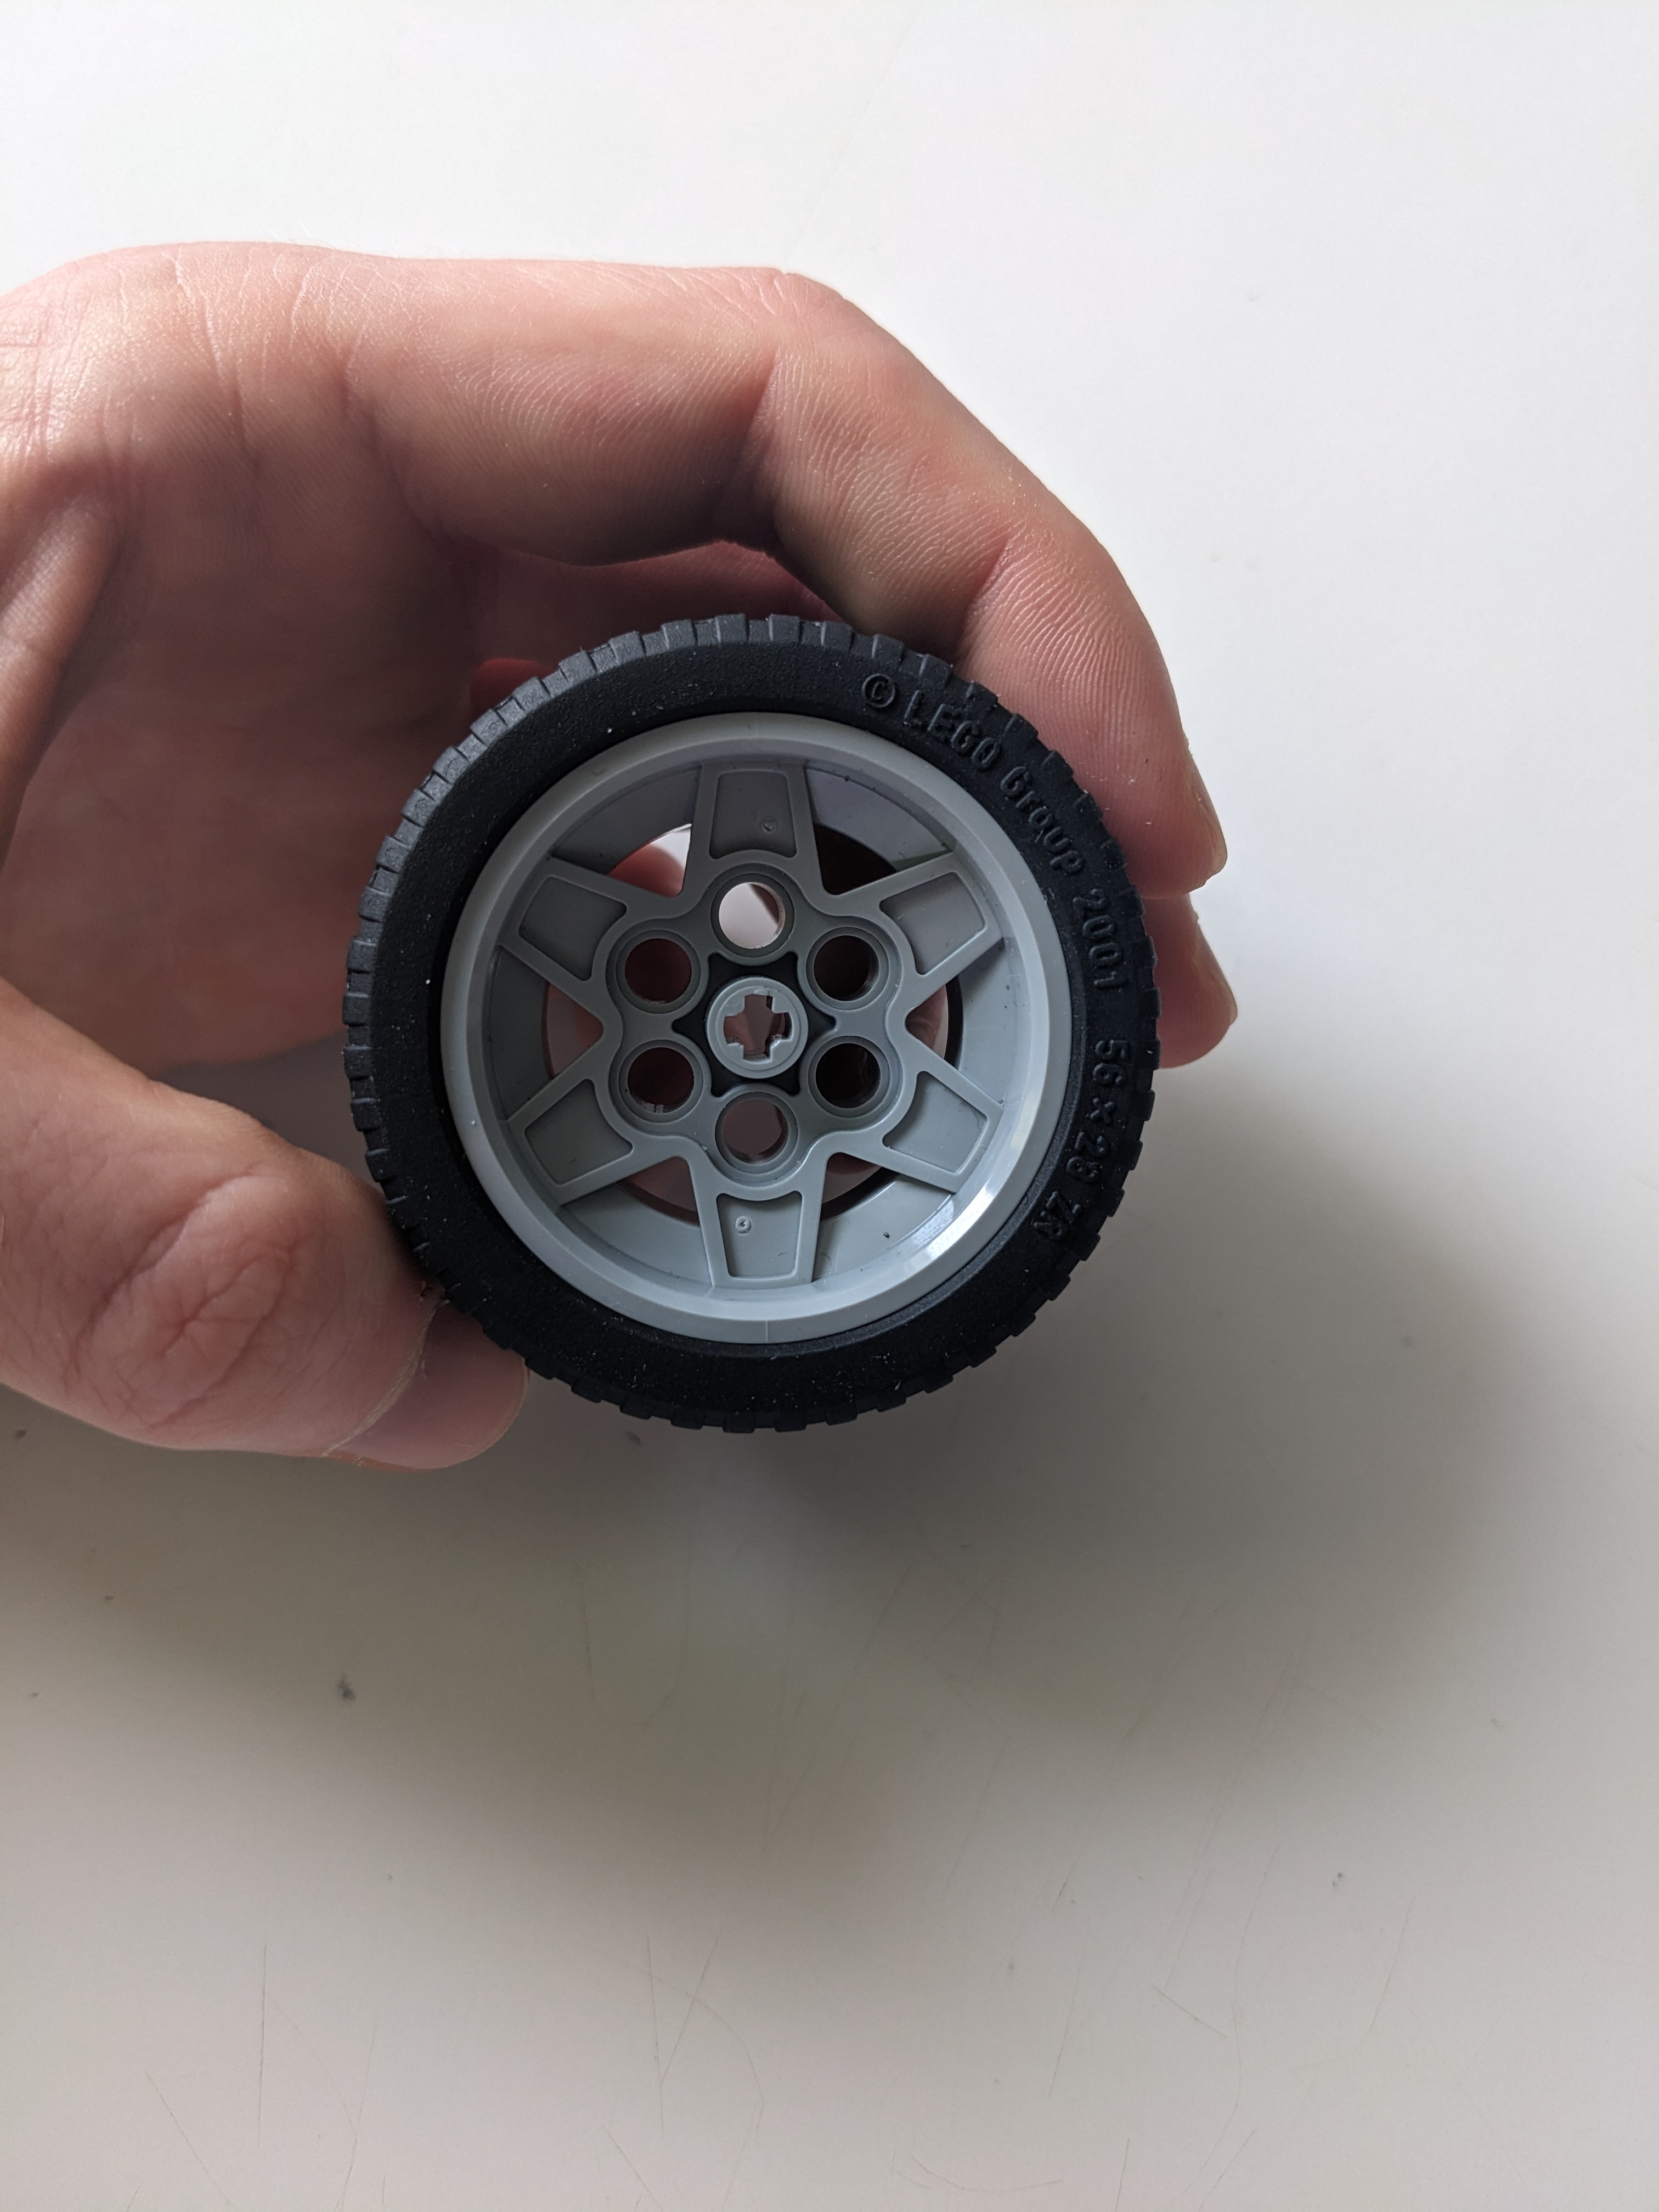Rad: (314, 589, 1187, 1460)
